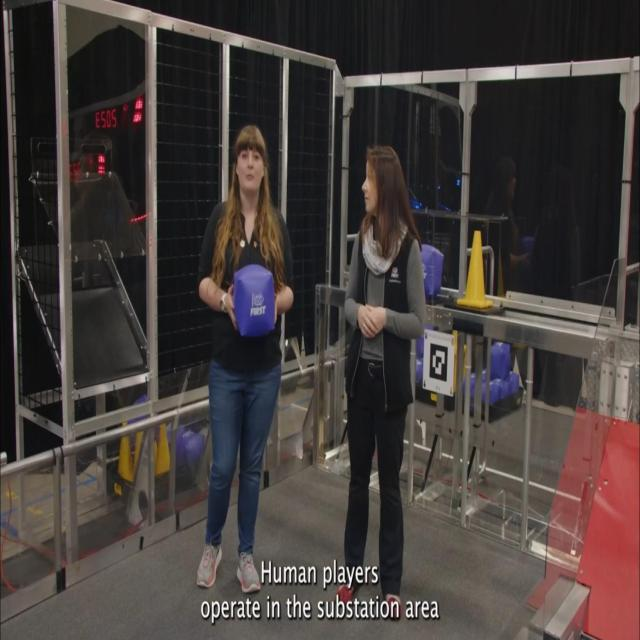frc_cone: (457, 229, 494, 309), (114, 418, 135, 496), (155, 422, 172, 476), (134, 429, 143, 465)
frc_cube: (232, 269, 275, 340), (418, 243, 444, 297), (177, 429, 204, 457), (491, 342, 512, 378), (482, 384, 498, 404), (495, 378, 510, 399), (508, 371, 520, 392)
